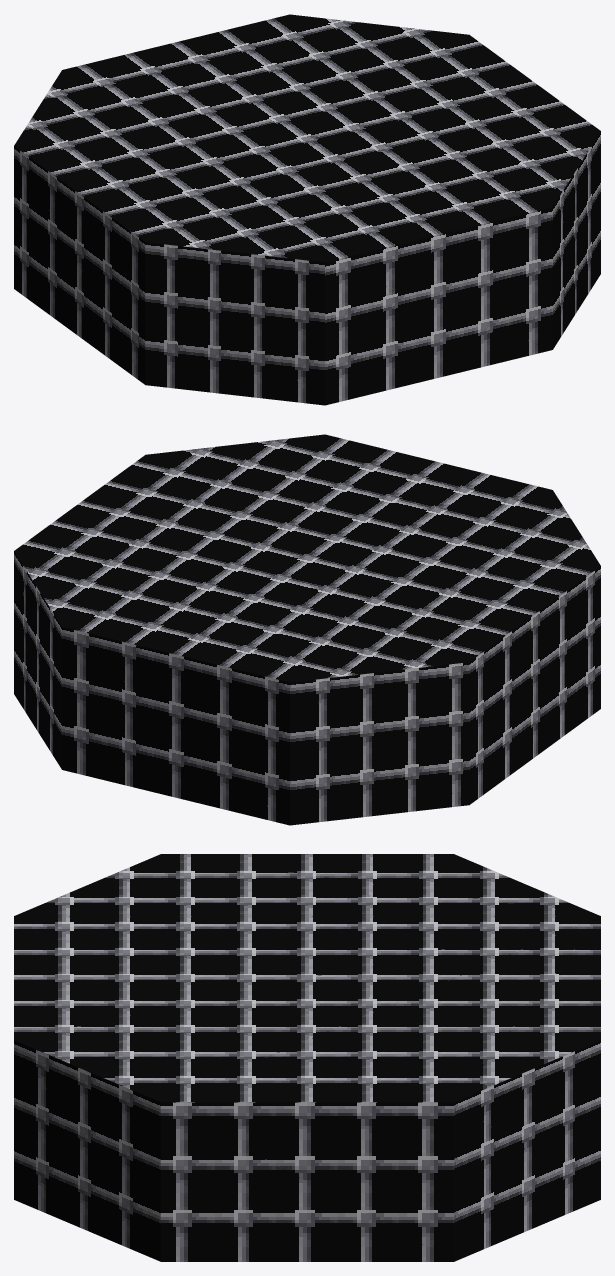
File: fl_amilift.glb
3 views of the same model, one above another, from view 1: azimuth 30°, elevation 25°; view 2: azimuth 150°, elevation 25°; view 3: azimuth 270°, elevation 25° (orthographic). The views are drawn at different scales.
Parts seen in each view (by area): view 1: fl_amilift; view 2: fl_amilift; view 3: fl_amilift.
Part boxes in pixels (x1,y1,x2,y2): fl_amilift: [14, 14, 600, 405]; fl_amilift: [14, 434, 600, 825]; fl_amilift: [14, 854, 600, 1261].
Size of the model in its own units: 62.5 by 18.75 by 62.5.
Materials: 1 (1 with a texture image).
